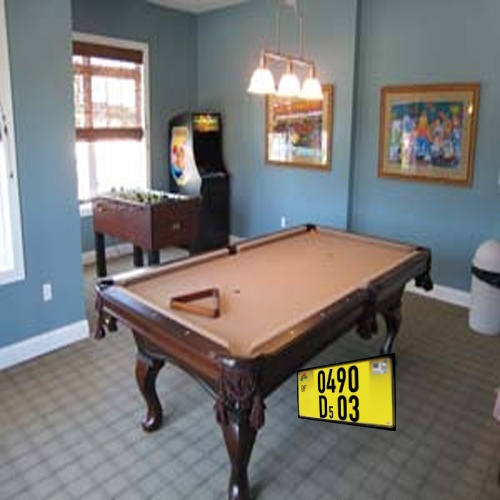plate: (281, 343, 413, 437)
